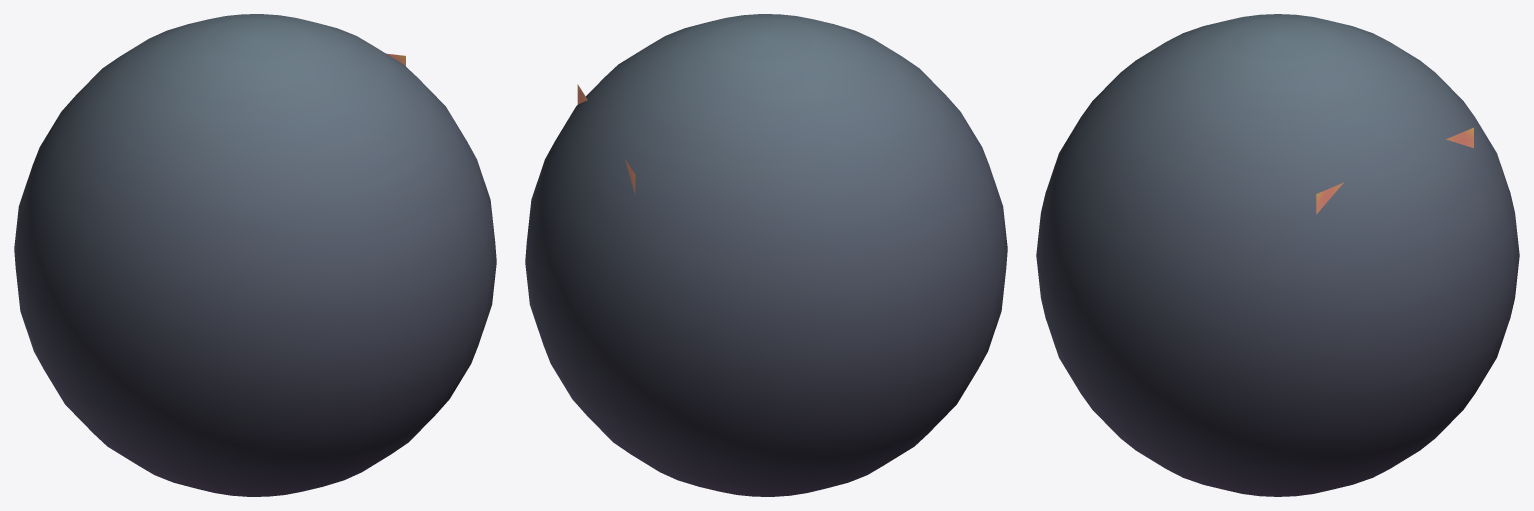
File: backdrop.fbx
The picture shows the model from 3 angles, left to right: view 1: azimuth 30°, elevation 25°; view 2: azimuth 150°, elevation 25°; view 3: azimuth 270°, elevation 25°; orthographic projection.
Parts seen in each view (by area): view 1: gradient; view 2: gradient; view 3: gradient, sunglare.
Part boxes in pixels (box(x1,y1,x2,y2)): gradient: box(14, 14, 496, 496); gradient: box(525, 14, 1007, 496); gradient: box(1036, 14, 1519, 496); sunglare: box(1316, 127, 1473, 214).
Bounding box in the file's own units: 8656 × 8656 × 8656.
7 materials, 7 textured.
